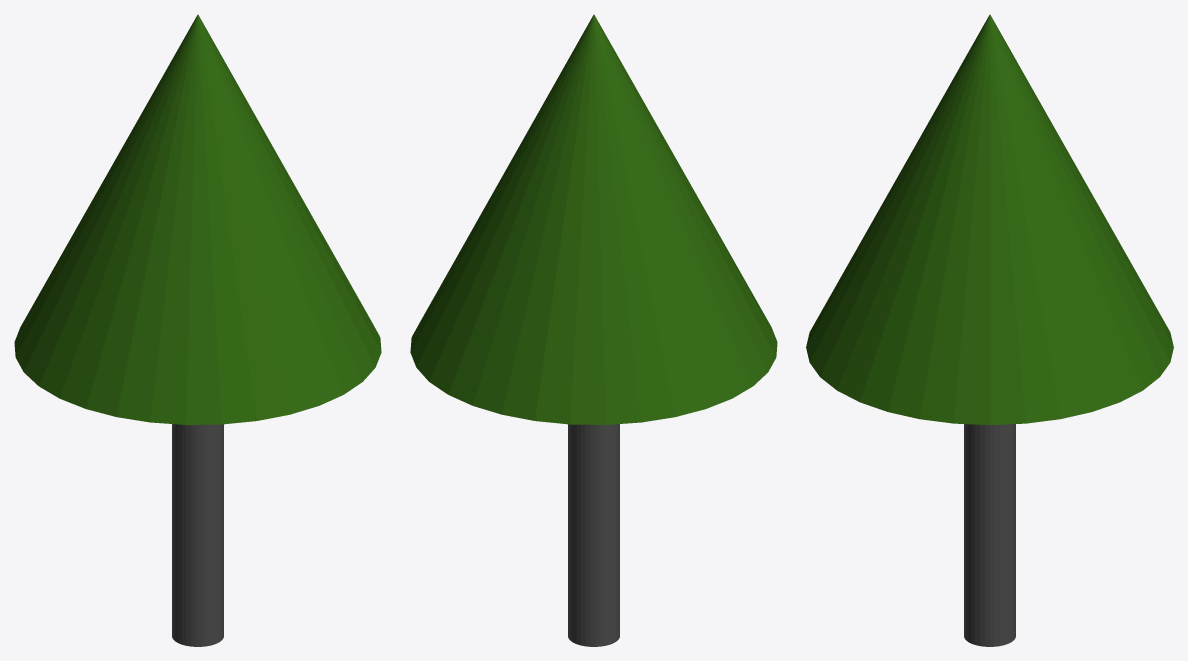
The picture shows the model from 3 angles, left to right: view 1: azimuth 30°, elevation 25°; view 2: azimuth 150°, elevation 25°; view 3: azimuth 270°, elevation 25°; orthographic projection.
Visible parts, largest first — view 1: Cone, Cylinder; view 2: Cone, Cylinder; view 3: Cone, Cylinder.
Boxes of the visible parts, left/top/right/bottom form: Cone: left=14, top=14, right=381, bottom=424; Cylinder: left=172, top=424, right=223, bottom=646; Cone: left=410, top=14, right=777, bottom=424; Cylinder: left=568, top=424, right=619, bottom=646; Cone: left=806, top=14, right=1173, bottom=424; Cylinder: left=964, top=424, right=1015, bottom=646.
Size of the model in its own units: 200 by 373 by 200.
